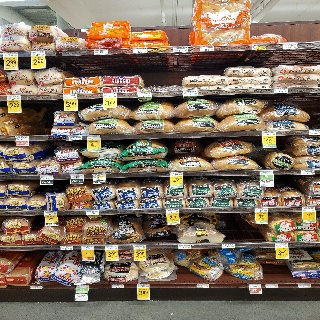All PRICE TAGS: (260, 170, 274, 179), (273, 88, 288, 94), (252, 44, 267, 50), (283, 43, 297, 49), (15, 135, 29, 141), (94, 49, 108, 55), (173, 46, 187, 52), (200, 46, 214, 52), (93, 173, 106, 179), (86, 135, 101, 140), (6, 95, 21, 100), (31, 51, 46, 56), (3, 52, 18, 57), (68, 135, 82, 140), (183, 90, 197, 95), (137, 91, 151, 96), (103, 92, 117, 97), (262, 131, 276, 136), (275, 243, 289, 248), (40, 175, 54, 180), (133, 48, 147, 53), (86, 210, 99, 215), (71, 174, 84, 179), (179, 244, 192, 249), (105, 245, 118, 250), (265, 283, 278, 288), (30, 285, 43, 290), (44, 210, 57, 215), (82, 245, 94, 250), (299, 283, 311, 288), (249, 283, 261, 288), (169, 172, 183, 176), (63, 94, 77, 98), (301, 207, 315, 211), (254, 208, 268, 212), (77, 284, 88, 289), (60, 246, 73, 250), (166, 209, 179, 213), (137, 284, 150, 288), (222, 244, 235, 248), (133, 245, 146, 249), (301, 170, 314, 174), (197, 284, 209, 288), (112, 284, 124, 288)
